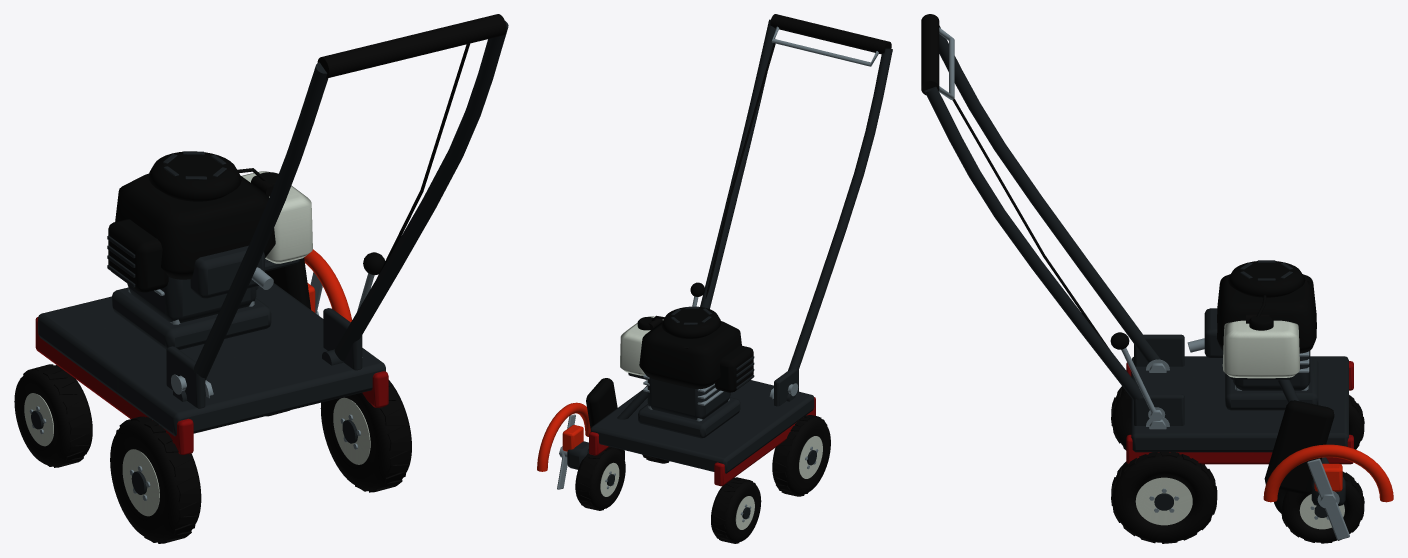
The model's file is WalkBehindEdger.gltf.
3 renders of one model, left to right at view 1: azimuth 30°, elevation 25°; view 2: azimuth 150°, elevation 25°; view 3: azimuth 270°, elevation 25°, orthographic. The views are drawn at different scales.
Visible parts, largest first — view 1: WalkBehindEdger__Body, WalkBehindEdger__Wheel_R-1, WalkBehindEdger__Wheel_R1, WalkBehindEdger__Wheel_F-1; view 2: WalkBehindEdger__Body, WalkBehindEdger__Wheel_R-1, WalkBehindEdger__Wheel_F-1, WalkBehindEdger__Wheel_F1; view 3: WalkBehindEdger__Body, WalkBehindEdger__Wheel_R1, WalkBehindEdger__Wheel_F1, WalkBehindEdger__Wheel_Blade, WalkBehindEdger__Wheel_R-1, WalkBehindEdger__Wheel_F-1.
Boxes of the visible parts, x1,y1,x2,y2 form: WalkBehindEdger__Body: [35, 14, 508, 454]; WalkBehindEdger__Wheel_R-1: [110, 416, 201, 543]; WalkBehindEdger__Wheel_R1: [320, 380, 411, 492]; WalkBehindEdger__Wheel_F-1: [14, 364, 92, 467]; WalkBehindEdger__Body: [537, 14, 892, 486]; WalkBehindEdger__Wheel_R-1: [772, 415, 830, 496]; WalkBehindEdger__Wheel_F-1: [711, 477, 761, 543]; WalkBehindEdger__Wheel_F1: [575, 446, 625, 510]; WalkBehindEdger__Body: [921, 14, 1393, 506]; WalkBehindEdger__Wheel_R1: [1111, 451, 1217, 543]; WalkBehindEdger__Wheel_F1: [1274, 471, 1364, 543]; WalkBehindEdger__Wheel_Blade: [1307, 458, 1349, 540]; WalkBehindEdger__Wheel_R-1: [1111, 386, 1131, 450]; WalkBehindEdger__Wheel_F-1: [1349, 395, 1364, 449].
Bounding box in the file's own units: 0.6188 × 1.22 × 1.15.
1 material, 1 textured.
